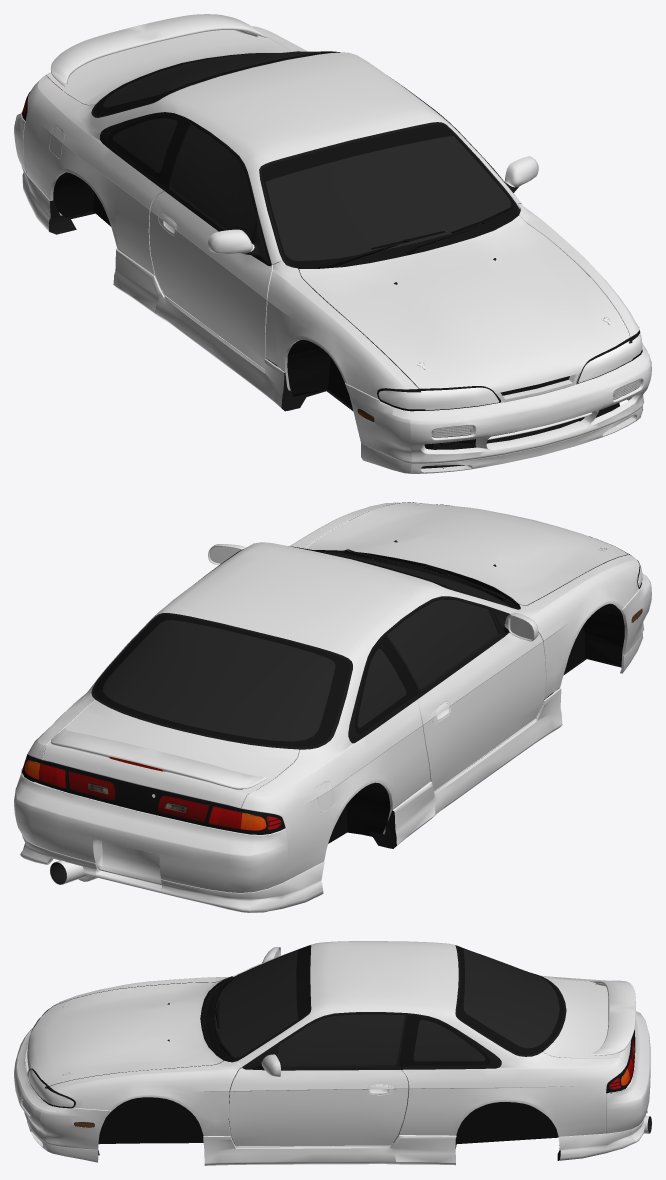
3 renders of one model, top to bottom at view 1: azimuth 30°, elevation 25°; view 2: azimuth 150°, elevation 25°; view 3: azimuth 270°, elevation 25°, orthographic. The views are drawn at different scales.
Parts seen in each view (by area): view 1: Combined GLOSS Object 0, Combined O_Glass Object 0, Combined O_Black Object 0, Combined O_Plastic Object 0, Combined O_FrontLights Object 0, Combined O_DarkPlastic Object 0, Combined sil_lights Object 0; view 2: Combined GLOSS Object 0, Combined O_Glass Object 0, Combined O_Black Object 0, Combined O_Plastic Object 0, Combined sil_lights Object 0, Combined CHROME Object 0, Combined O_DarkPlastic Object 0; view 3: Combined GLOSS Object 0, Combined O_Glass Object 0, Combined O_Black Object 0, Combined O_Plastic Object 0, Combined O_FrontLights Object 0, Combined sil_lights Object 0.
Boxes of the visible parts, x1,y1,x2,y2 form: Combined GLOSS Object 0: (14, 14, 651, 473); Combined O_Glass Object 0: (103, 51, 510, 260); Combined O_Black Object 0: (22, 51, 641, 468); Combined O_Plastic Object 0: (91, 52, 642, 391); Combined O_FrontLights Object 0: (378, 333, 642, 410); Combined O_DarkPlastic Object 0: (49, 200, 584, 446); Combined sil_lights Object 0: (23, 82, 640, 437); Combined GLOSS Object 0: (14, 502, 651, 912); Combined O_Glass Object 0: (103, 547, 510, 741); Combined O_Black Object 0: (22, 546, 642, 843); Combined O_Plastic Object 0: (91, 502, 629, 749); Combined sil_lights Object 0: (23, 609, 642, 830); Combined CHROME Object 0: (50, 502, 607, 884); Combined O_DarkPlastic Object 0: (50, 540, 496, 884); Combined GLOSS Object 0: (14, 941, 650, 1165); Combined O_Glass Object 0: (214, 949, 559, 1065); Combined O_Black Object 0: (28, 946, 635, 1155); Combined O_Plastic Object 0: (32, 945, 566, 1088); Combined O_FrontLights Object 0: (28, 1010, 73, 1107); Combined sil_lights Object 0: (22, 1030, 634, 1127).
Bounding box in the file's own units: 2.09 × 1.2 × 4.69.
Materials: 8 (1 with a texture image).
